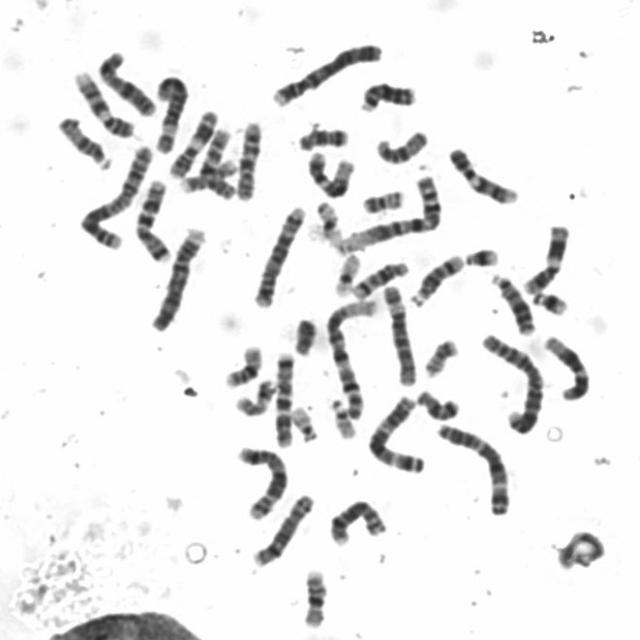A1: (330, 167, 445, 255), (319, 292, 382, 422)
A2: (73, 138, 156, 252), (475, 326, 545, 437)
A3: (430, 416, 513, 518), (361, 389, 428, 474)
B4: (264, 36, 384, 108), (144, 220, 208, 334)
B5: (247, 199, 308, 309), (230, 438, 290, 522)
C10: (197, 120, 238, 200), (230, 114, 264, 202)
C11: (162, 102, 220, 180), (516, 217, 572, 296)
C12: (538, 328, 592, 402), (301, 144, 356, 198)
C6: (377, 278, 419, 388), (147, 69, 191, 154)
C7: (129, 172, 175, 264), (267, 345, 297, 448)
C8: (246, 487, 316, 569), (324, 492, 389, 546)
C9: (67, 63, 136, 139), (441, 140, 520, 205)
D13: (484, 266, 537, 337), (354, 74, 418, 114)
D14: (404, 247, 466, 308), (344, 254, 412, 299)
D15: (52, 110, 114, 172), (369, 122, 431, 166)
E16: (295, 562, 330, 630), (218, 338, 264, 389)
E17: (175, 152, 239, 195), (227, 371, 279, 418)
E18: (410, 382, 462, 422), (292, 120, 351, 152)
F19: (328, 246, 363, 298), (309, 194, 345, 244)
F20: (417, 331, 461, 378), (356, 183, 407, 215)
G21: (527, 283, 570, 317), (458, 240, 502, 268)
G22: (324, 392, 359, 440), (284, 399, 320, 443)
X: (91, 44, 159, 118)
Y: (288, 311, 320, 357)
